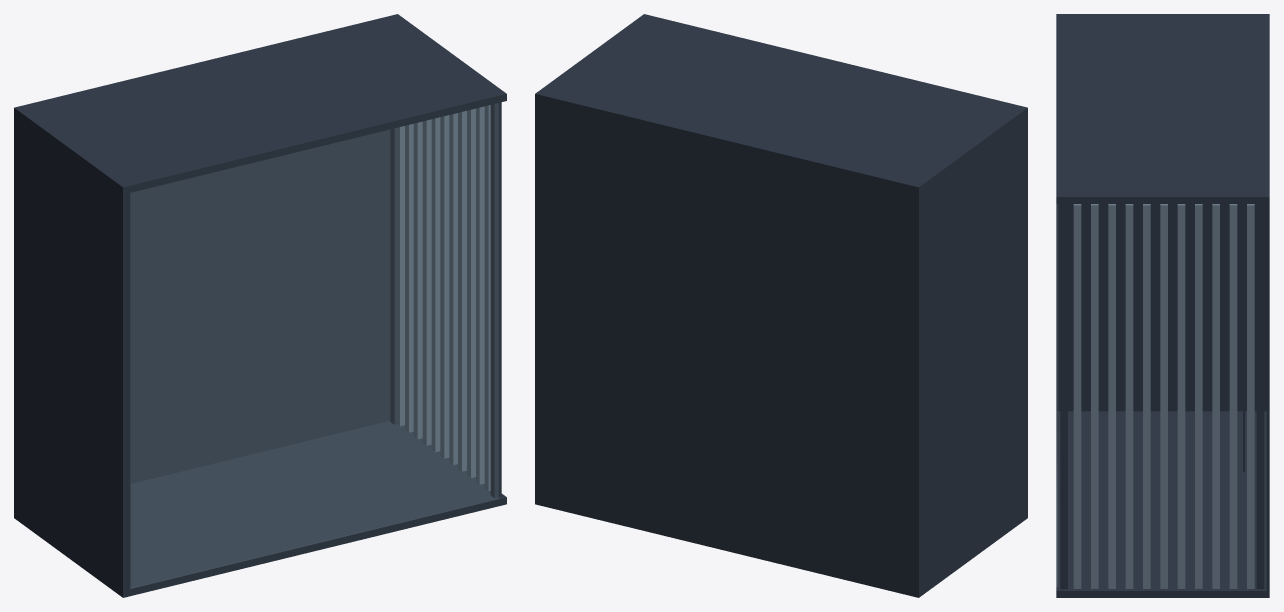
File: silhouette-case.glb
3 views of the same model, side by side, from view 1: azimuth 30°, elevation 25°; view 2: azimuth 150°, elevation 25°; view 3: azimuth 270°, elevation 25° (orthographic). The views are drawn at different scales.
Parts seen in each view (by area): view 1: Side panel, Rear, Top, Motherboard tray, Base, Illustrative front slat (×11), Back panel, Frame rail (×3); view 2: Back panel, Rear, Top; view 3: Top, Illustrative front slat (×11), Rear, Base, Frame rail (×2), Back panel, Side panel, Motherboard tray.
Boxes of the visible parts, box(x1,y1,x2,y2) form: Side panel: box(130, 103, 498, 588); Rear: box(14, 107, 129, 597); Top: box(14, 14, 506, 194); Motherboard tray: box(131, 146, 321, 417); Base: box(14, 421, 506, 597); Illustrative front slat (×11): box(396, 105, 490, 490); Back panel: box(14, 14, 398, 518); Frame rail (×3): box(123, 17, 501, 586); Back panel: box(535, 93, 919, 597); Rear: box(914, 106, 1027, 596); Top: box(536, 14, 1020, 193); Top: box(1056, 14, 1267, 203); Illustrative front slat (×11): box(1073, 204, 1254, 588); Rear: box(1056, 14, 1267, 411); Base: box(1056, 411, 1267, 597); Frame rail (×2): box(1060, 192, 1264, 589); Back panel: box(1266, 14, 1269, 597); Side panel: box(1056, 204, 1057, 586); Motherboard tray: box(1243, 204, 1244, 472).
Size of the model in its own units: 0.45 by 0.46 by 0.2215.
